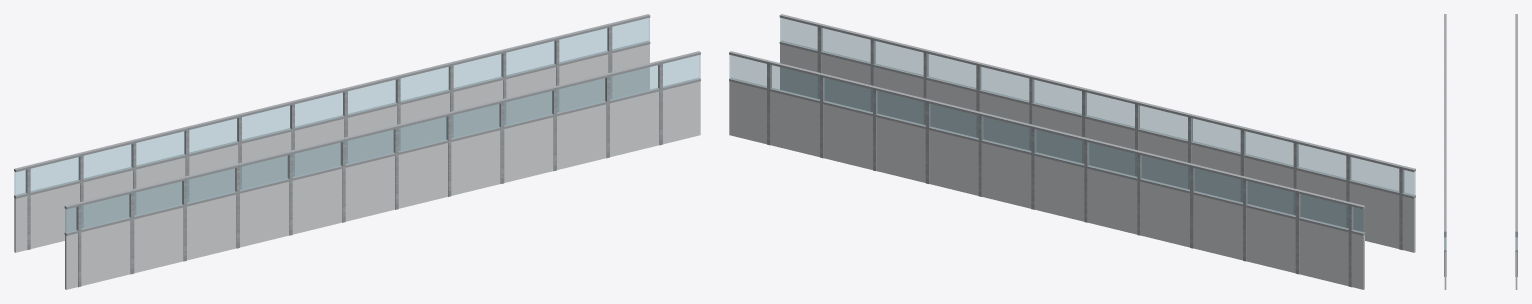
File: BridgeNoiseBarrier.glb
The picture shows the model from 3 angles, left to right: view 1: azimuth 30°, elevation 25°; view 2: azimuth 150°, elevation 25°; view 3: azimuth 270°, elevation 25°; orthographic projection. The views are drawn at different scales.
Parts seen in each view (by area): view 1: bridge-barrier-lower-panel (×26), bridge-barrier-glass (×24), bridge-barrier-post (×2); view 2: bridge-barrier-lower-panel (×26), bridge-barrier-glass (×24), bridge-barrier-post (×2); view 3: bridge-barrier-lower-panel (×2), bridge-barrier-post (×2).
Part boxes in pixels (box(x1,y1,x2,y2)): bridge-barrier-lower-panel (×26): box(14, 44, 700, 289); bridge-barrier-glass (×24): box(30, 17, 700, 229); bridge-barrier-post (×2): box(129, 99, 504, 274); bridge-barrier-lower-panel (×26): box(729, 44, 1415, 289); bridge-barrier-glass (×24): box(729, 17, 1399, 229); bridge-barrier-post (×2): box(925, 99, 1300, 274); bridge-barrier-lower-panel (×2): box(1444, 252, 1517, 289); bridge-barrier-post (×2): box(1444, 217, 1517, 276).
Bounding box in the file's own units: 24 × 3 × 3.44.
Materials: 3 (1 with a texture image).
